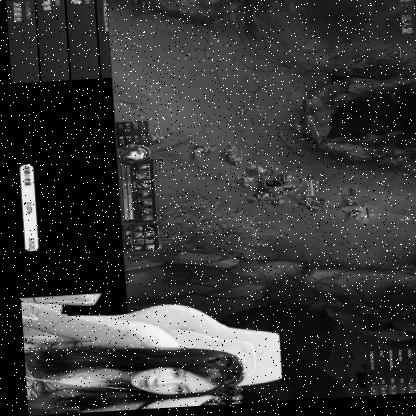streamer: (16, 294, 242, 416)
